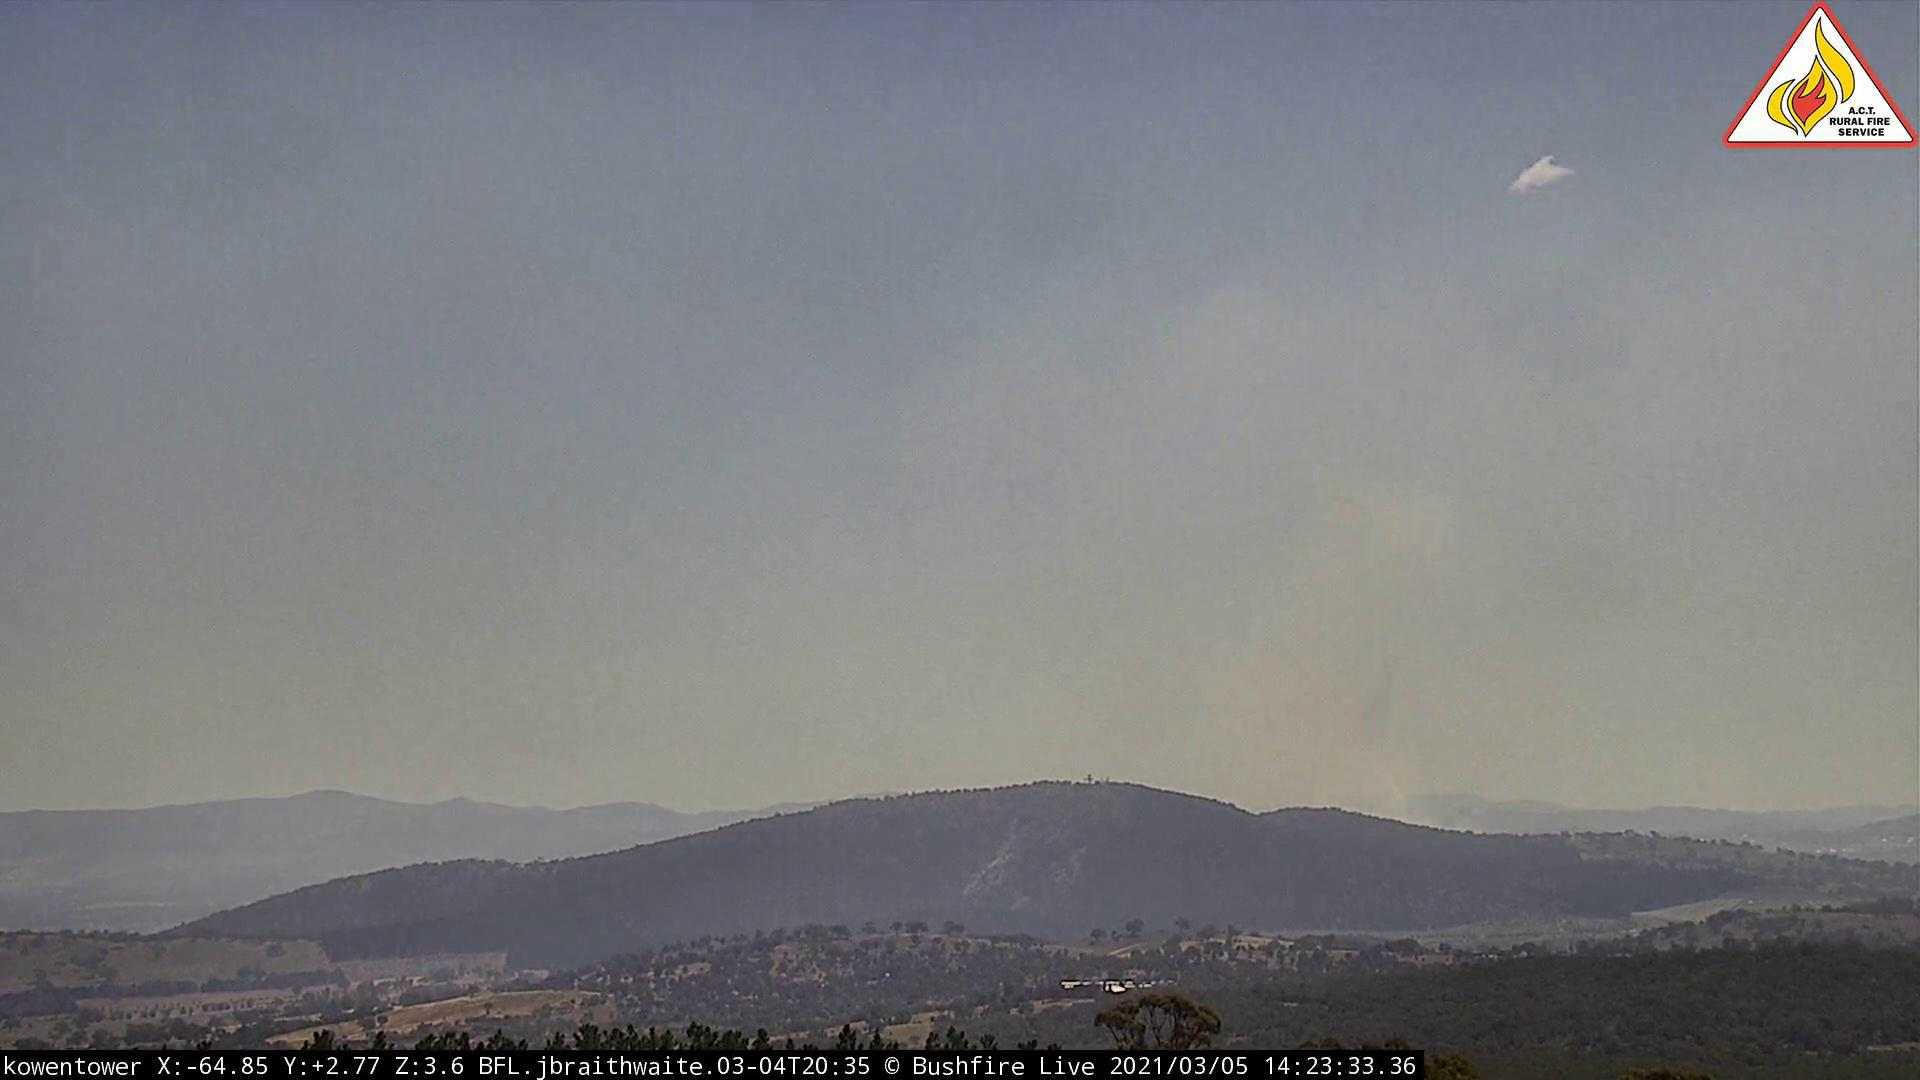Smoke: (1199, 462, 1545, 847)
